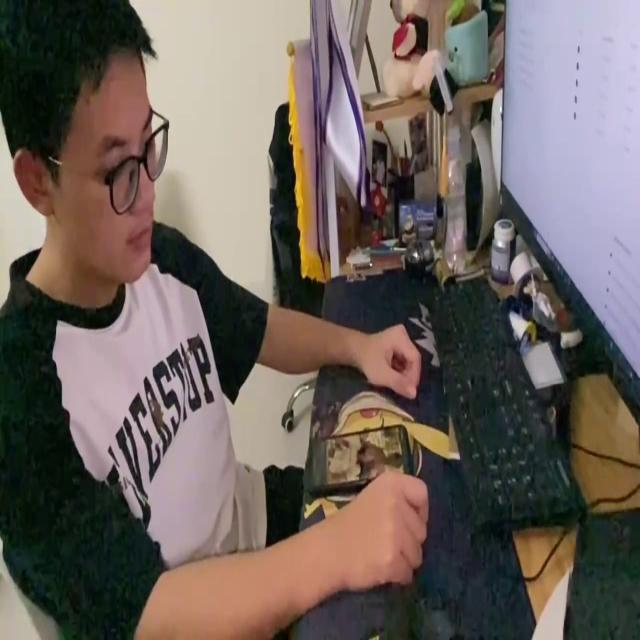laptop: (497, 0, 640, 434)
phone: (296, 422, 415, 488)
student: (2, 0, 432, 640)
